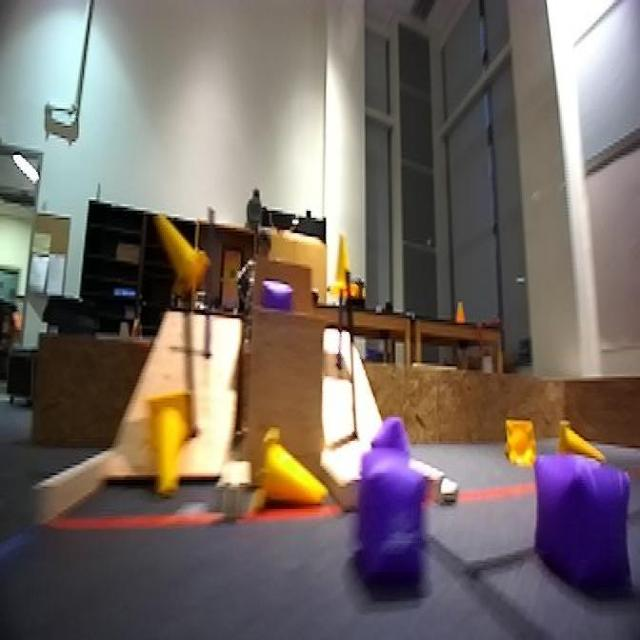frc_cone: (252, 412, 328, 516), (136, 398, 192, 496), (154, 202, 210, 292), (555, 422, 608, 463), (329, 233, 354, 303), (504, 417, 536, 466)
frc_cube: (529, 425, 640, 616), (342, 450, 425, 598), (255, 270, 301, 322), (372, 418, 407, 452)
